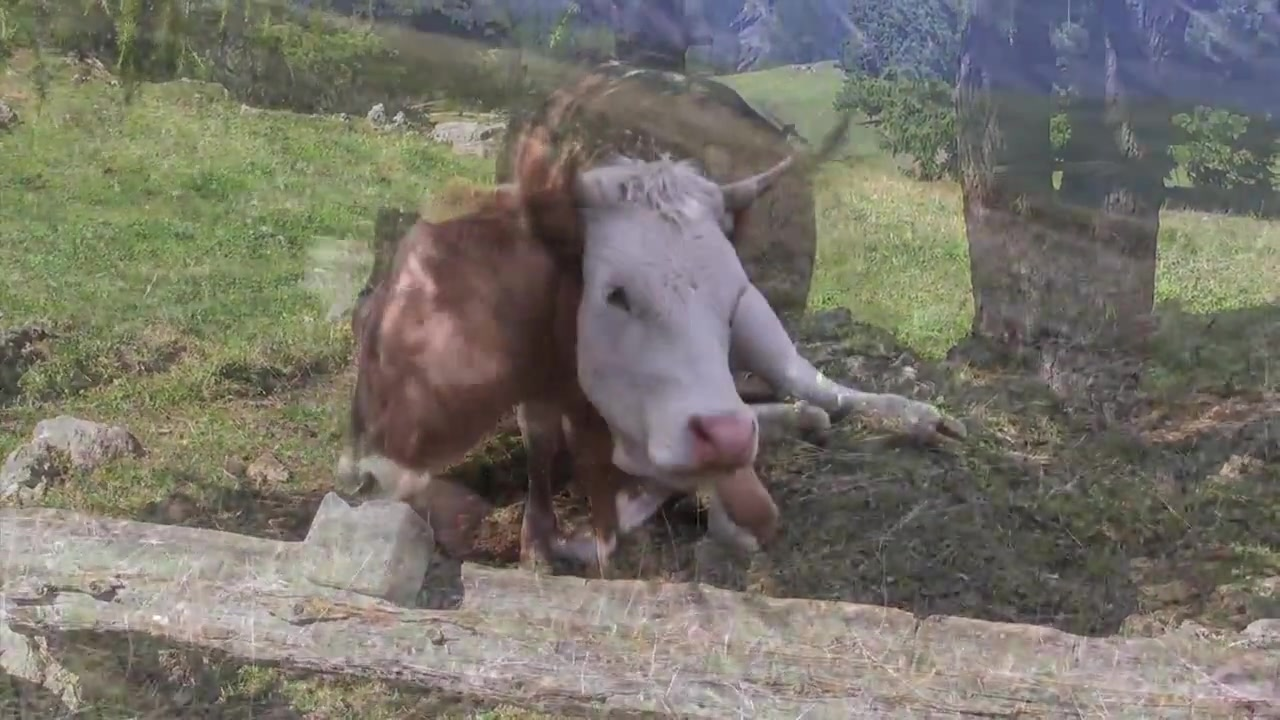cow: (344, 155, 970, 566)
